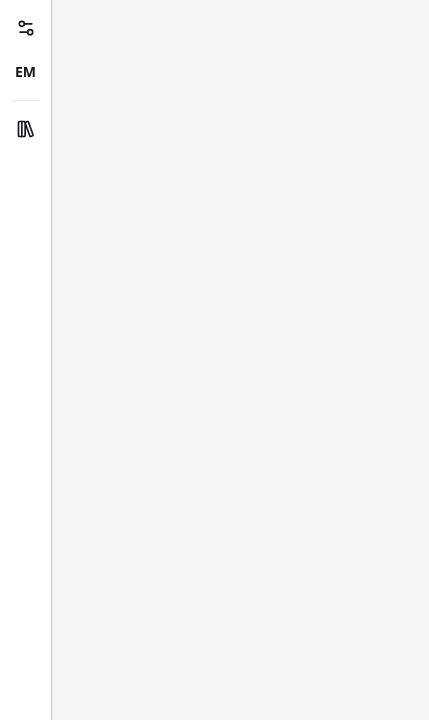
Test case: shows real EM thumbnails and filters them using the same tile as the normal tool
Later steps or results of the test are not shown.
Click the button with aria-label "EMC library".
click(26, 72)  # box [6, 52, 46, 92]
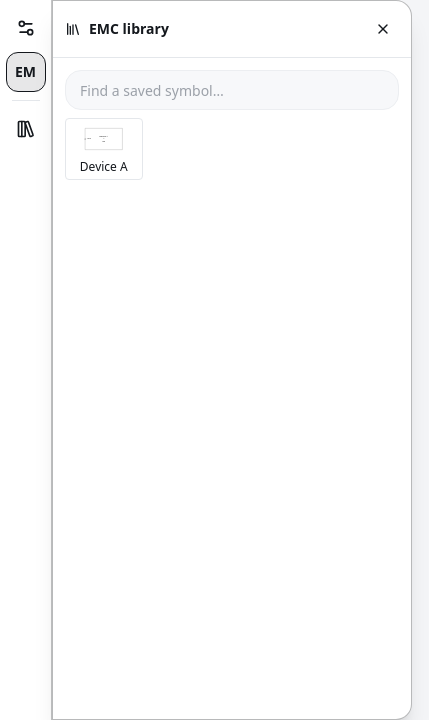
Expected: the picture named "Symbol thumbnail" is shown, [70, 123, 138, 155]
Expected: the button with aria-label "Insert Device A" is shown, [65, 118, 142, 180]
